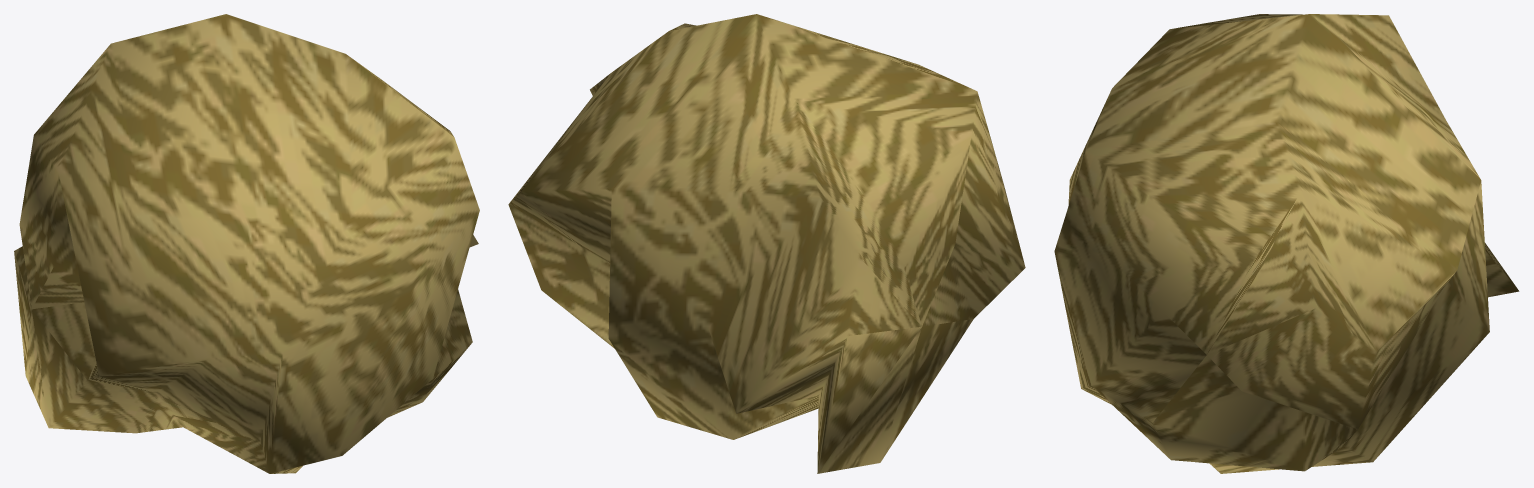
The model's file is M_thumbleweed_01.fbx.
3 views of the same model, side by side, from view 1: azimuth 30°, elevation 25°; view 2: azimuth 150°, elevation 25°; view 3: azimuth 270°, elevation 25° (orthographic). The views are drawn at different scales.
Parts seen in each view (by area): view 1: M_thumbleweed_01; view 2: M_thumbleweed_01; view 3: M_thumbleweed_01.
Part boxes in pixels (x1,y1,x2,y2): M_thumbleweed_01: (14,14,479,473); M_thumbleweed_01: (508,14,1025,473); M_thumbleweed_01: (1054,14,1519,473).
Size of the model in its own units: 0.0169 by 0.0167 by 0.0158.
